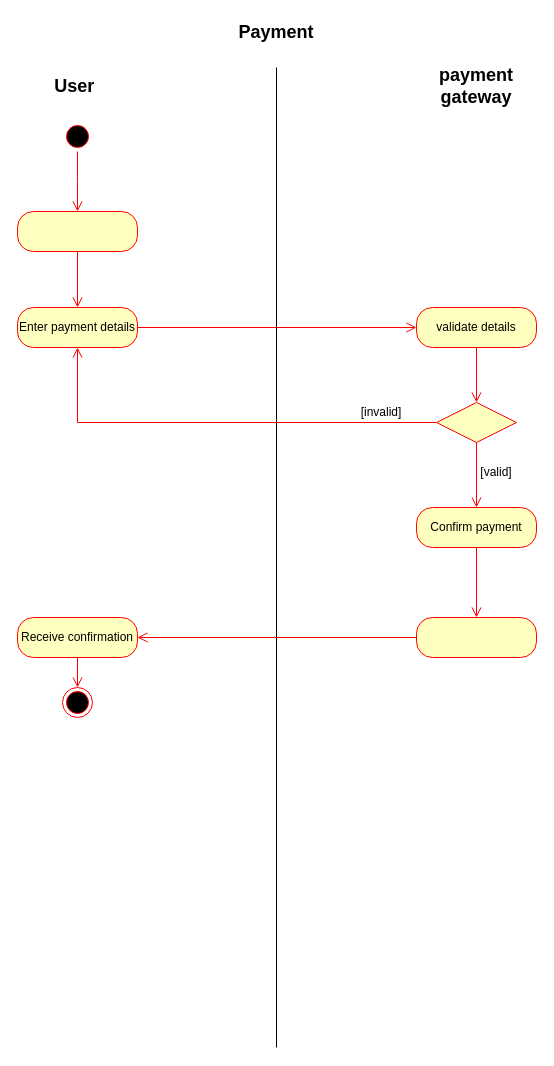
Image size: 554x1066. Some labels were removed from this diagram. Each missing label, with the box of its shape:
pay: (16, 210, 138, 252)
Send confirmation email: (416, 616, 536, 658)
